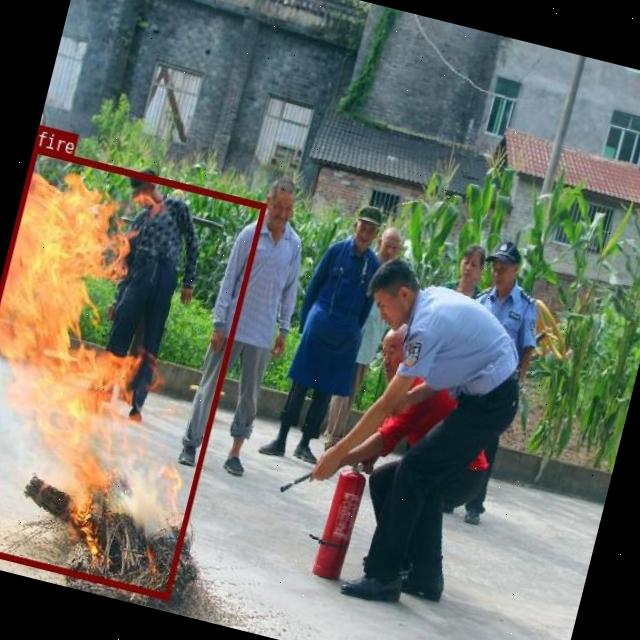fire: (0, 145, 264, 597)
